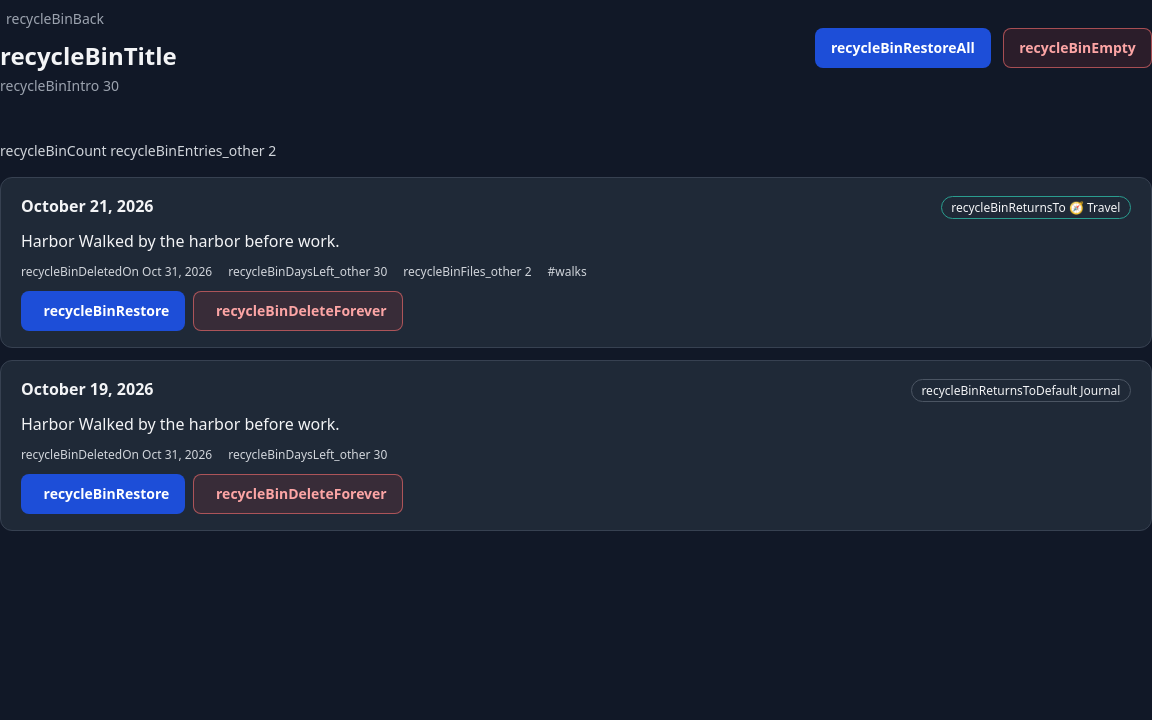
Scenario: RecycleBinPage › empties the bin after confirming, and reports a failure
The width and height of the screenshot is (1152, 720).
Expected: the element "October 21, 2026" is shown, top-left (0, 176), bottom-right (1151, 348)
Step 1. Click the button "recycleBinEmpty" → (1078, 48), box top-left (1003, 28), bottom-right (1151, 68)
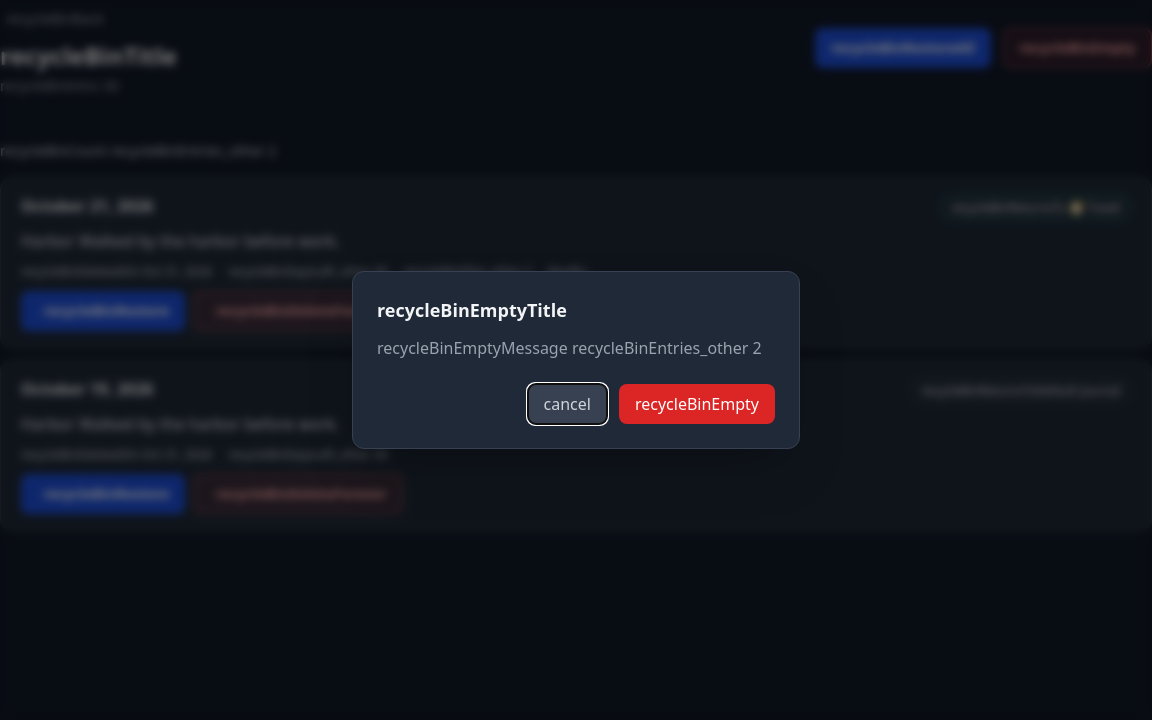
Expected: the text "recycleBinEmptyMessage recycleBinEntries_other 2" is shown, top-left (377, 336), bottom-right (775, 360)
Step 2. Click the button "recycleBinEmpty" → (697, 404), box top-left (619, 384), bottom-right (775, 424)
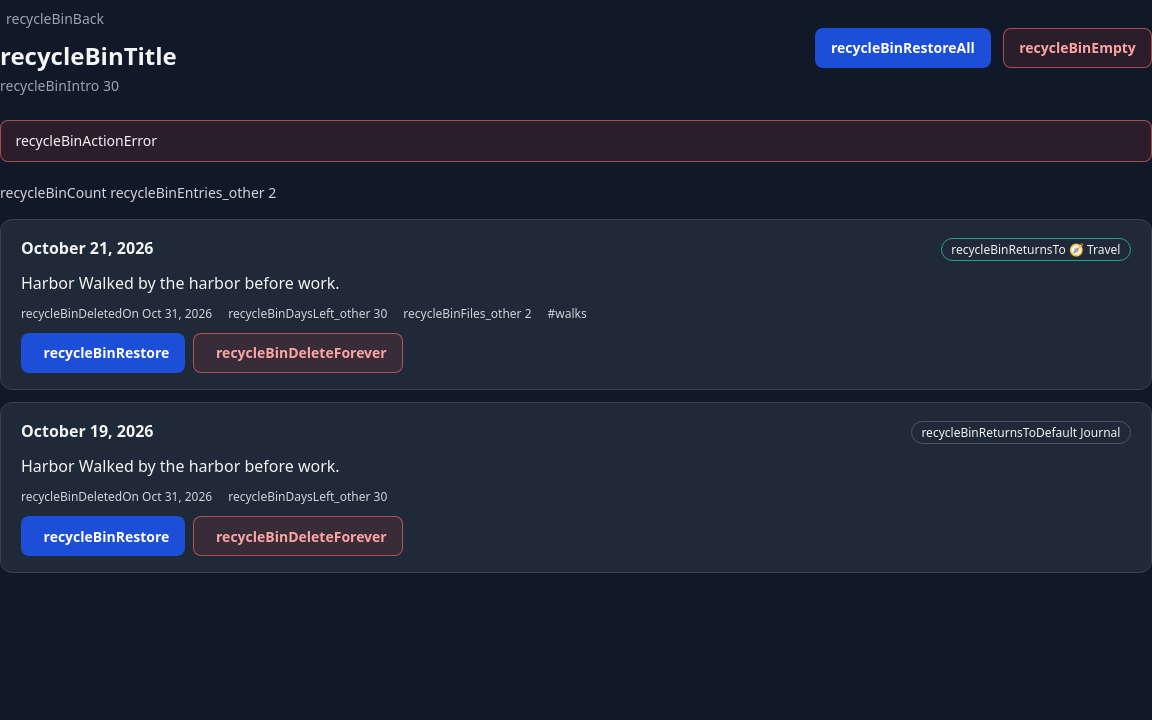
Expected: the text "recycleBinActionError" is shown, top-left (0, 120), bottom-right (1151, 162)
